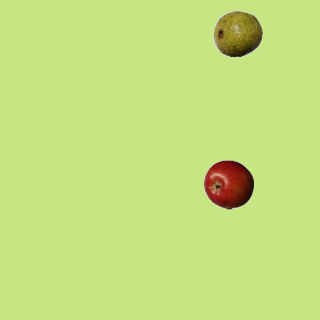Apple Braeburn: (203, 159, 253, 209)
Guava: (212, 8, 262, 58)
